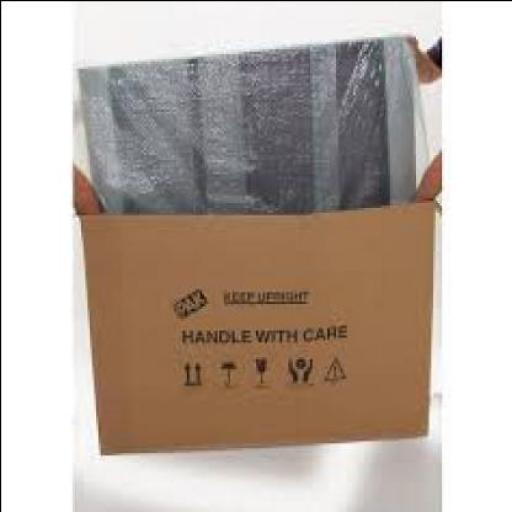cardboard: (73, 197, 433, 452)
